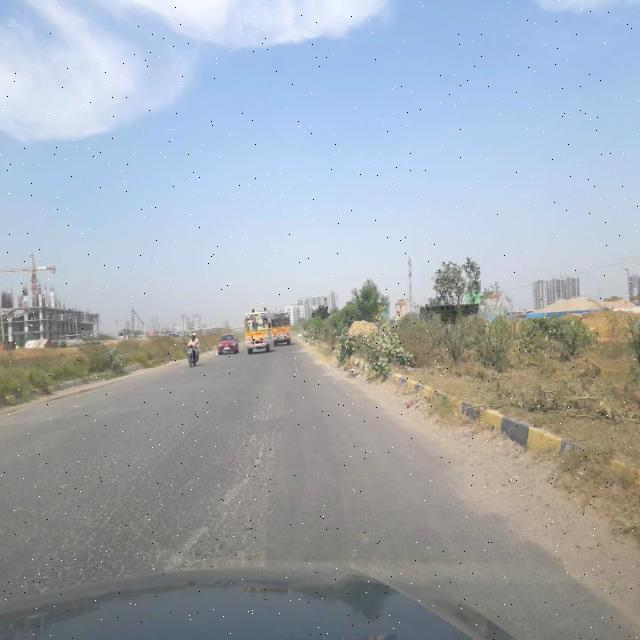D00: (70, 404, 211, 558)
D44: (1, 406, 283, 563)
